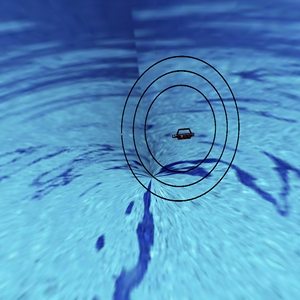circle: (99, 38, 253, 207)
submarine: (167, 121, 200, 145)
